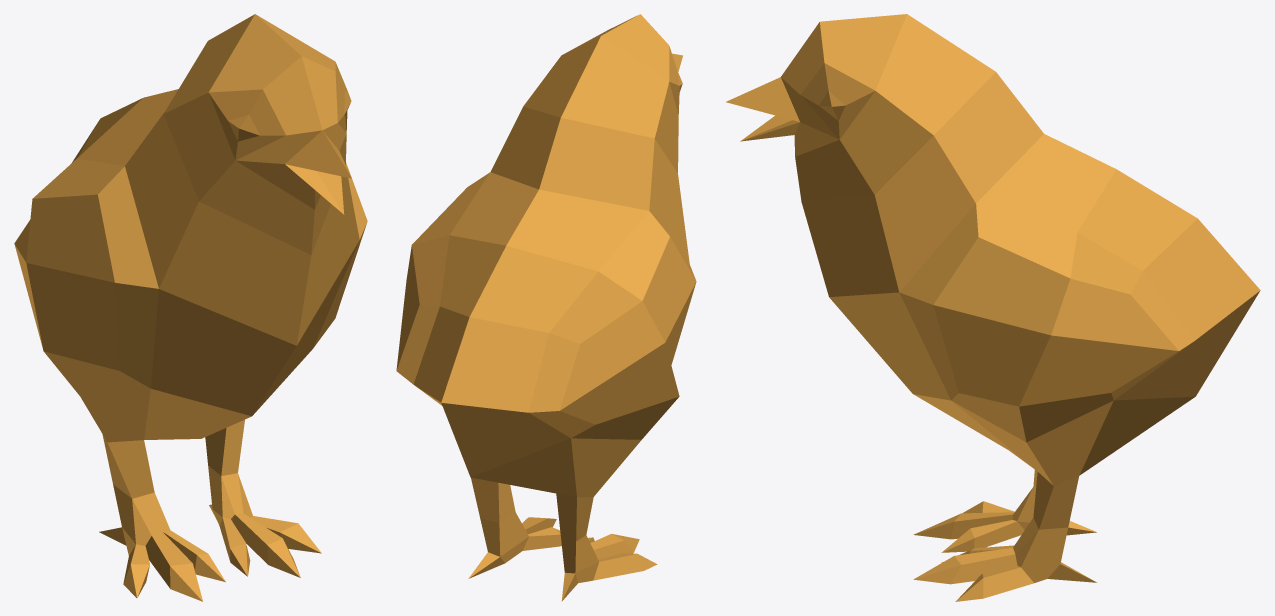
Rendered from chick.fbx.
The picture shows the model from 3 angles, left to right: view 1: azimuth 30°, elevation 25°; view 2: azimuth 150°, elevation 25°; view 3: azimuth 270°, elevation 25°; orthographic projection. The views are drawn at different scales.
Parts seen in each view (by area): view 1: chick; view 2: chick; view 3: chick.
Boxes of the visible parts, <box> form: chick: <box>14,14,367,601</box>; chick: <box>396,14,696,601</box>; chick: <box>726,14,1260,601</box>.
Size of the model in its own units: 0.0529 by 0.0963 by 0.0857.
